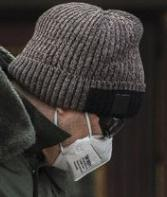OK: (48, 102, 125, 182)
